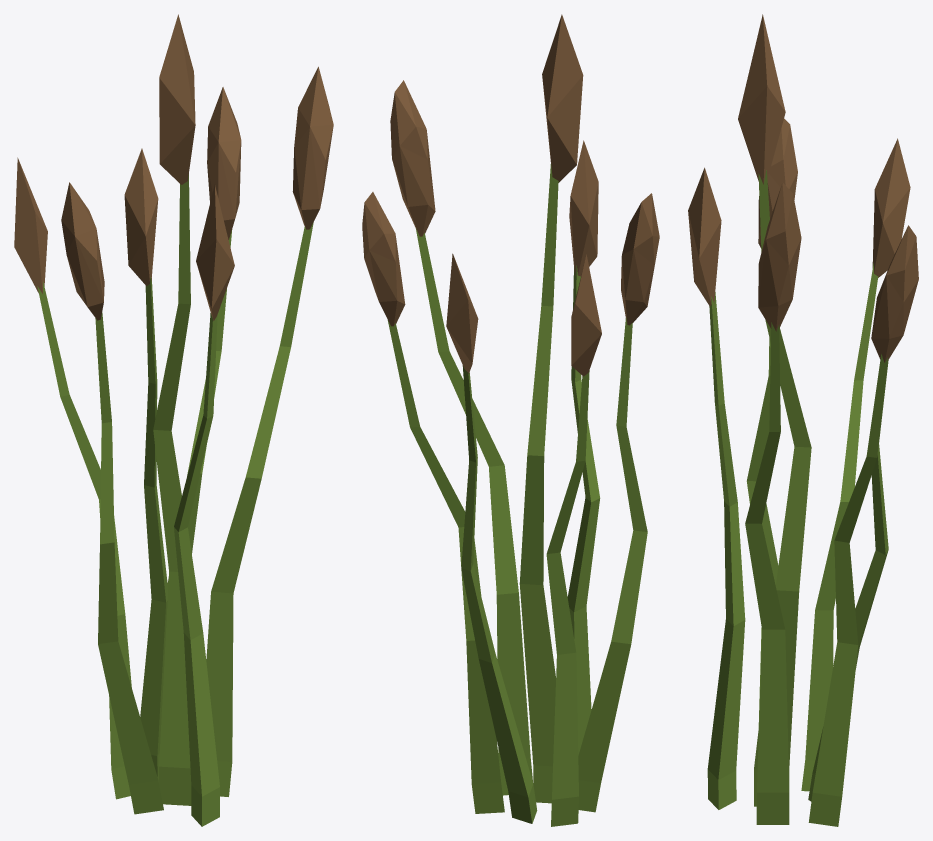
The model's file is Reeds_01.fbx.
3 renders of one model, left to right at view 1: azimuth 30°, elevation 25°; view 2: azimuth 150°, elevation 25°; view 3: azimuth 270°, elevation 25°, orthographic.
Parts seen in each view (by area): view 1: Reeds_01; view 2: Reeds_01; view 3: Reeds_01.
Part boxes in pixels (left/top/right/bottom): Reeds_01: left=14, top=14, right=333, bottom=826; Reeds_01: left=362, top=14, right=659, bottom=826; Reeds_01: left=688, top=14, right=918, bottom=826.
Bounding box in the file's own units: 22.03 × 62.76 × 16.63.
